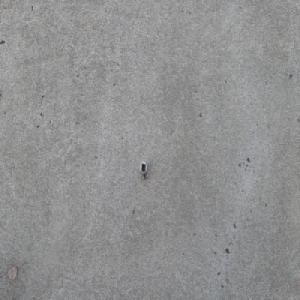MetalPart: (139, 160, 148, 180)
